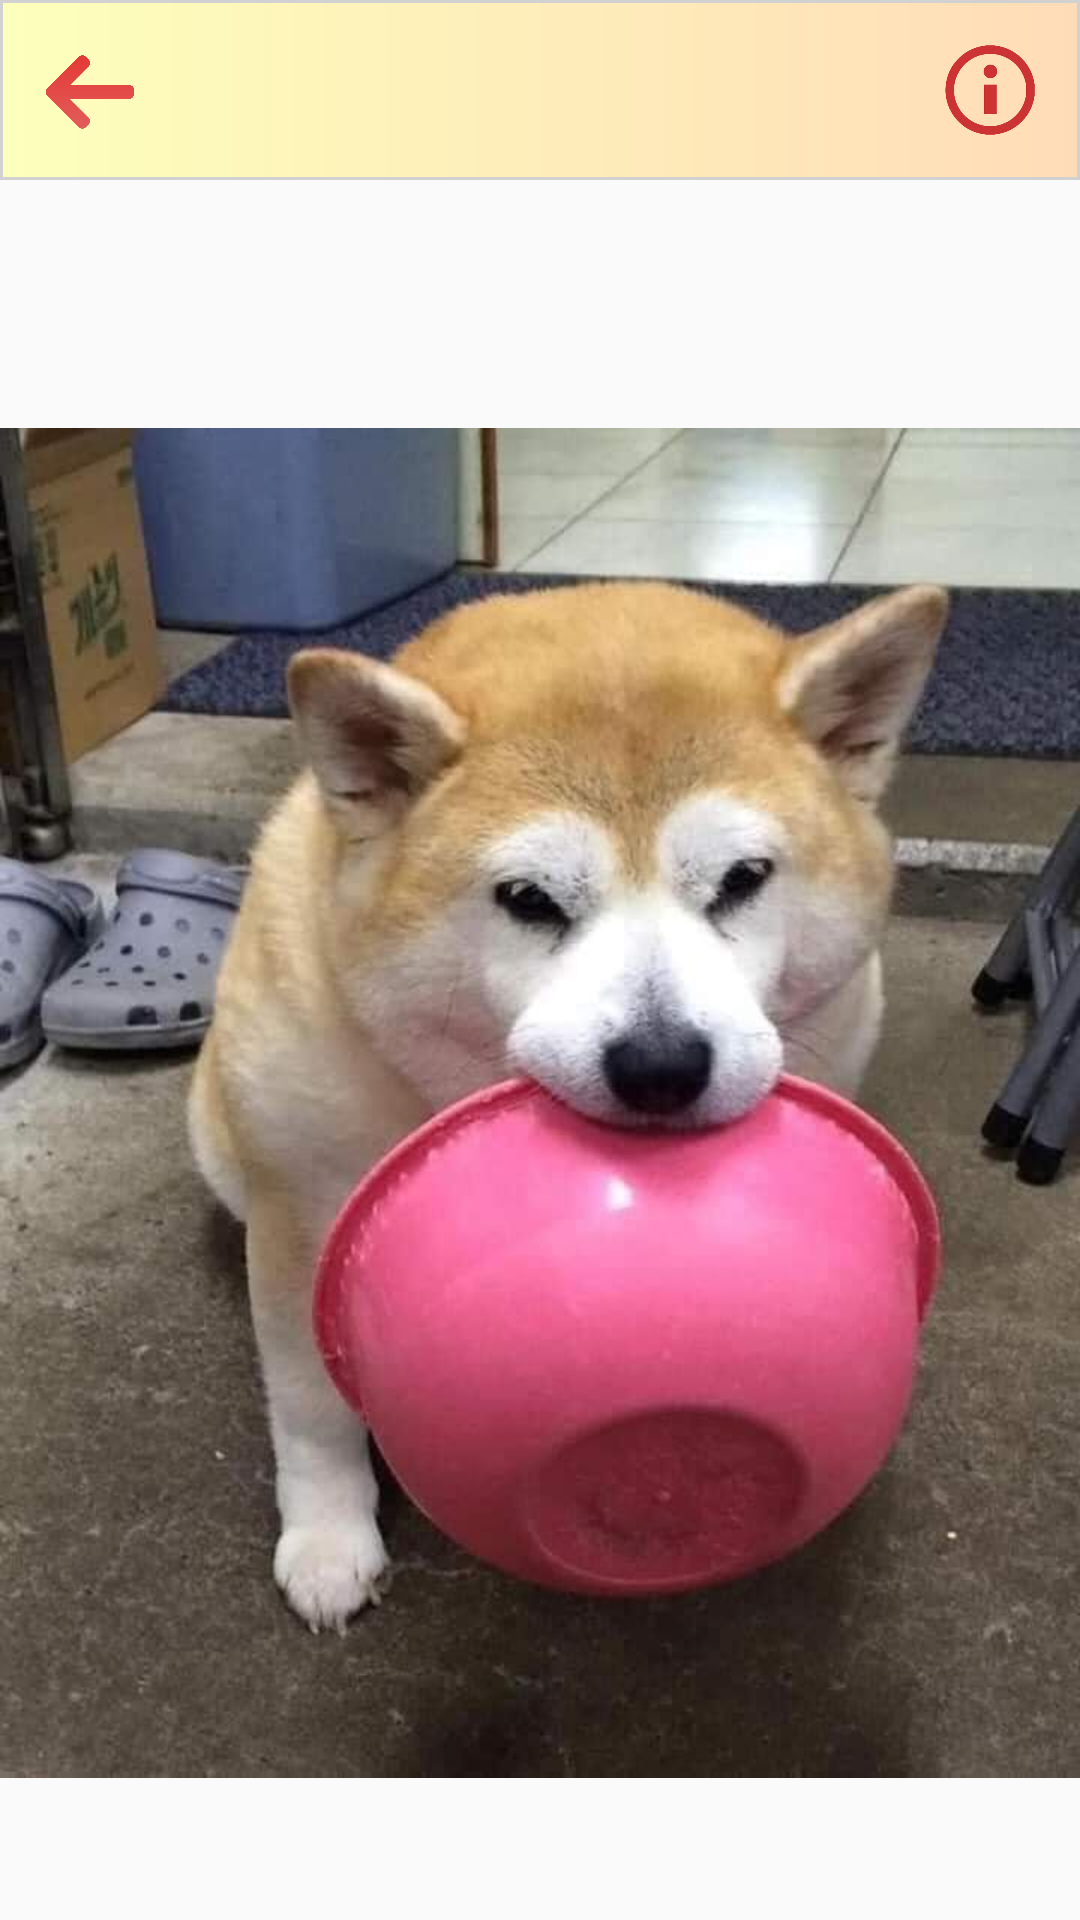

Icons on this 1080w x 1920h Android screen, each with the point to tap as (x,y):
back: (90,92)
info: (990,90)
